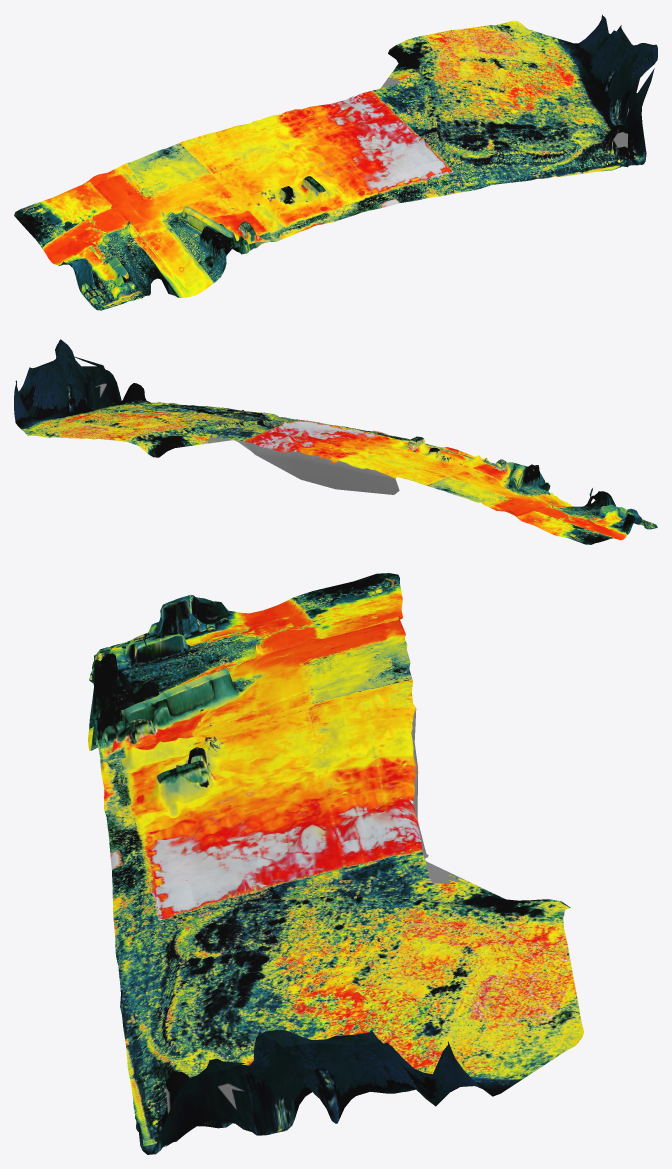
File: thermo_mafukan.glb
3 renders of one model, top to bottom at view 1: azimuth 30°, elevation 25°; view 2: azimuth 150°, elevation 25°; view 3: azimuth 270°, elevation 25°, orthographic. The views are drawn at different scales.
Visible parts, largest first — view 1: DefaultName; view 2: DefaultName; view 3: DefaultName.
Boxes of the visible parts, x1,y1,x2,y2 form: DefaultName: (14, 14, 657, 310); DefaultName: (14, 339, 657, 544); DefaultName: (88, 573, 583, 1154).
Size of the model in its own units: 143 by 20.86 by 54.36.
1 material, 1 textured.
